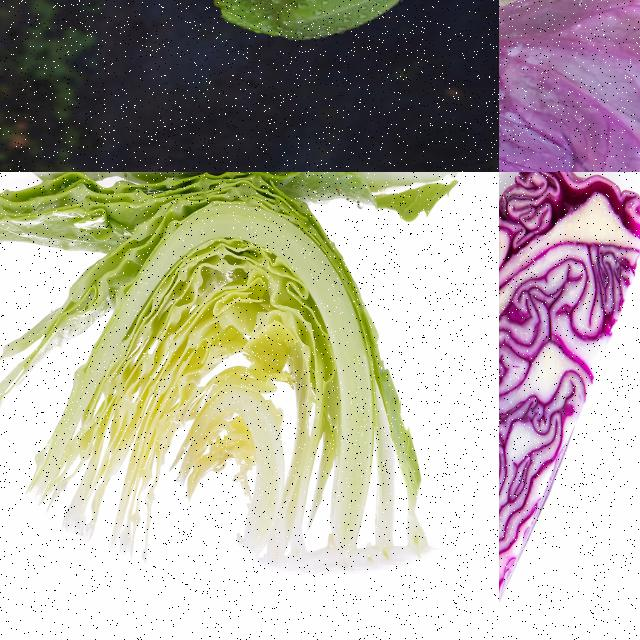cabbage: (0, 172, 466, 584), (499, 172, 639, 639), (499, 0, 639, 171)
